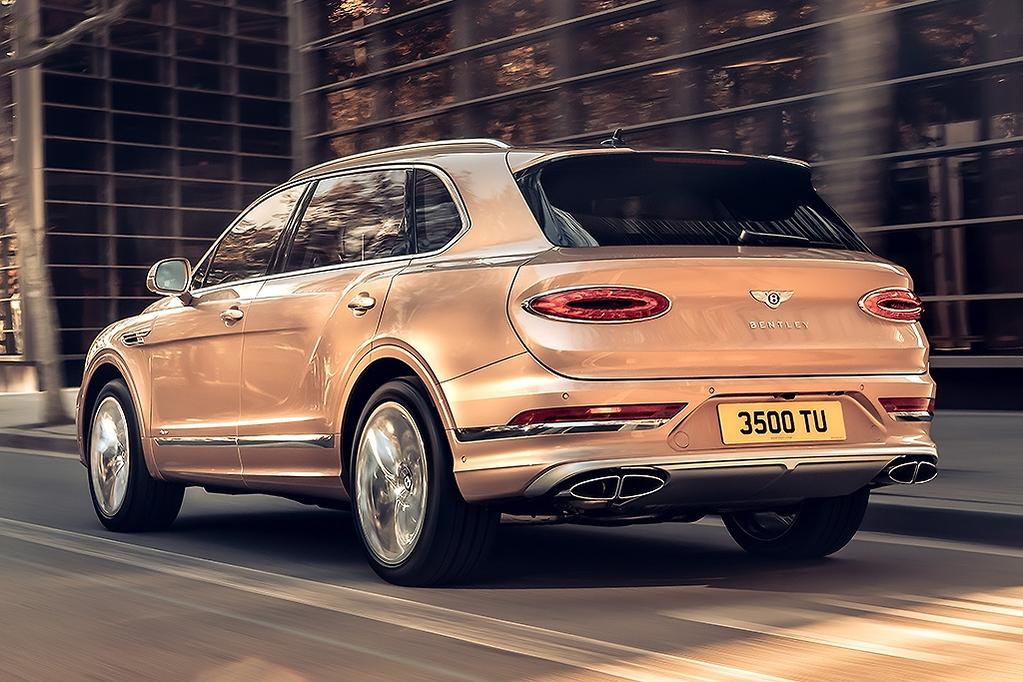car: (64, 123, 941, 593)
